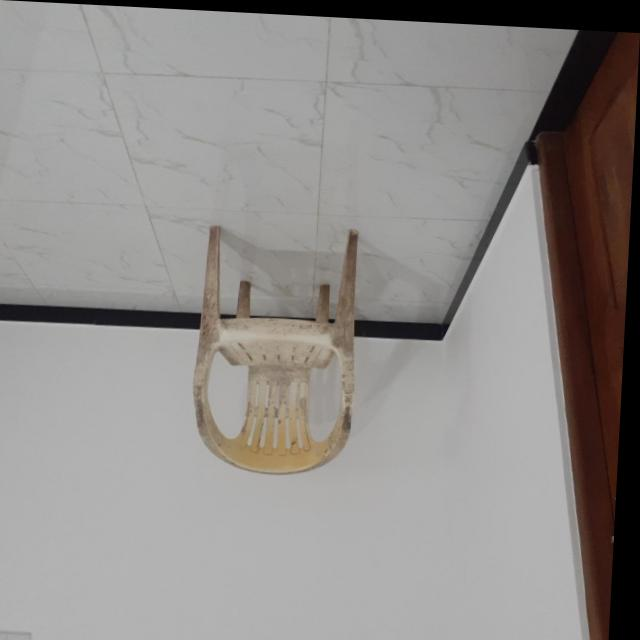Chair: (194, 215, 367, 477)
